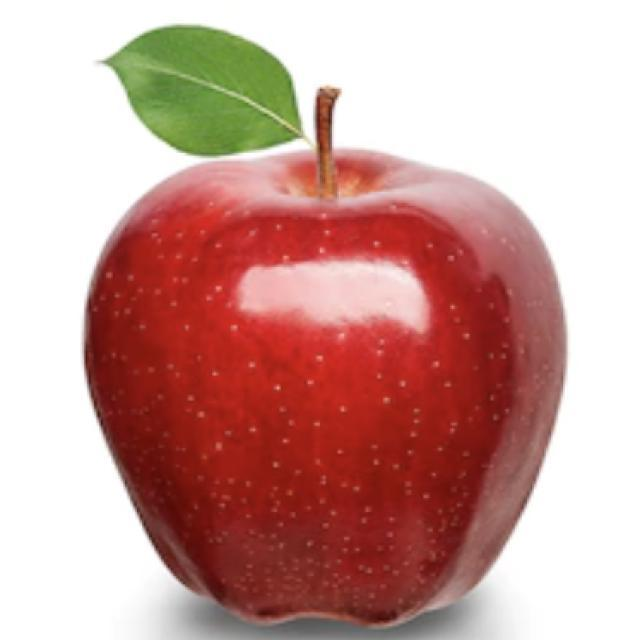Apple: (79, 101, 569, 633)
